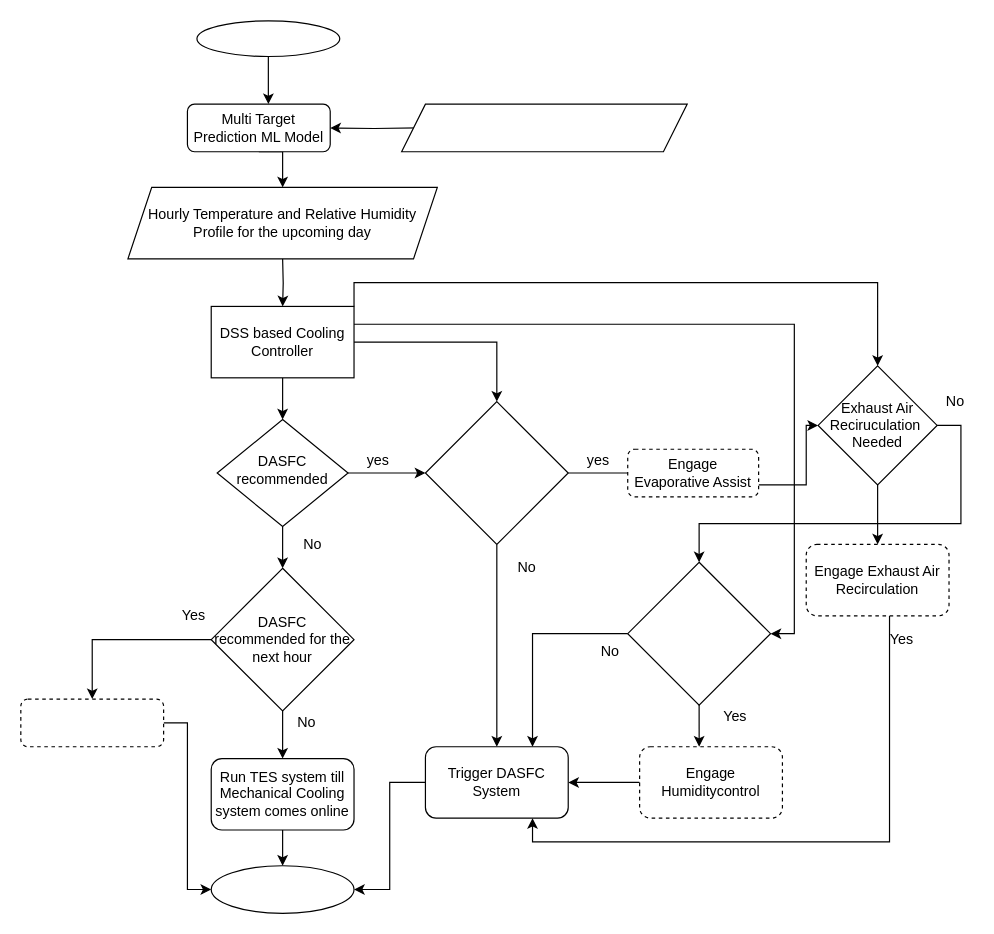
The diagram is 994 pixels wide and 934 high, and some of its shapes have lost their labels. The box of each missing label's shape, as (x1, y1, x2, y2) in pixels:
Evaporative Assistance Needed: (424, 400, 568, 544)
Hourly Meteorological Forecast for the upcoming day: (400, 103, 687, 152)
Humidity Control Needed: (627, 561, 771, 705)
Run TES system for the full hour: (20, 698, 164, 747)
Start: (196, 20, 340, 57)
Stop: (210, 865, 354, 913)
